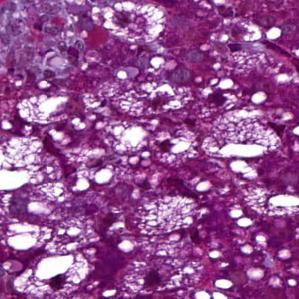ballooning: (11, 250, 90, 298), (89, 4, 166, 45), (15, 93, 70, 127)
